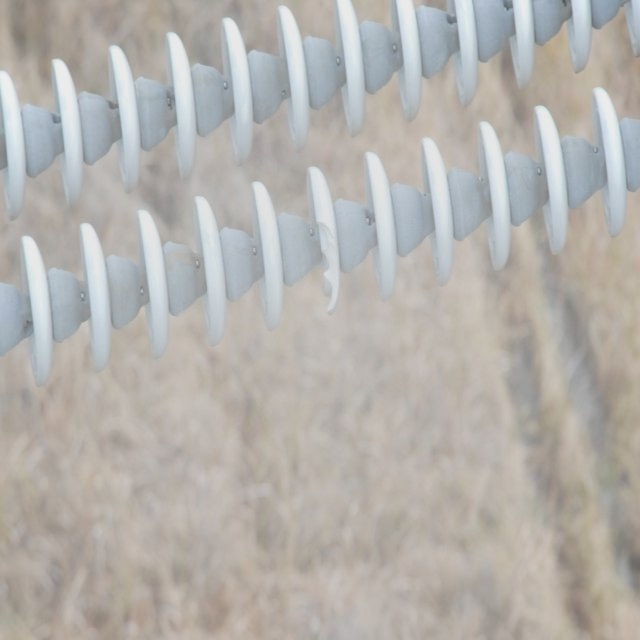broken: (310, 205, 340, 313)
insulator: (4, 0, 638, 386)
